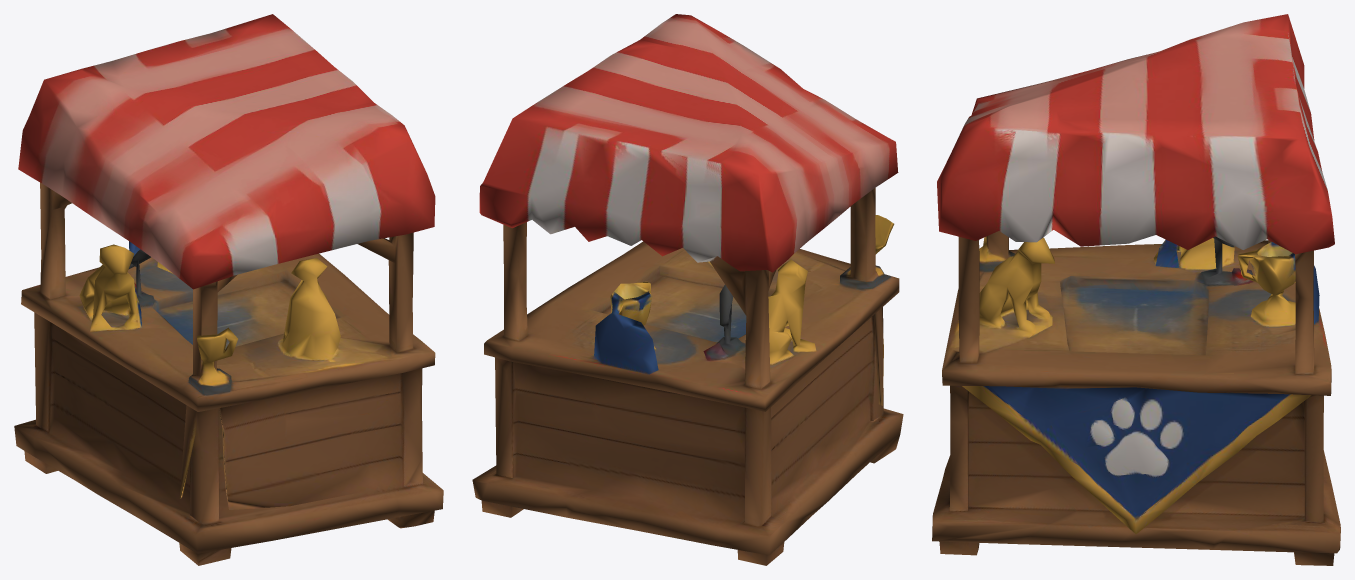
File: judge-booth.glb
3 renders of one model, left to right at view 1: azimuth 30°, elevation 25°; view 2: azimuth 150°, elevation 25°; view 3: azimuth 270°, elevation 25°, orthographic. The views are drawn at different scales.
Parts seen in each view (by area): view 1: tripo_node_b52b6902-52ca-43e4-8227-8fc32ba8c8e5; view 2: tripo_node_b52b6902-52ca-43e4-8227-8fc32ba8c8e5; view 3: tripo_node_b52b6902-52ca-43e4-8227-8fc32ba8c8e5.
Boxes of the visible parts, x1=… form: tripo_node_b52b6902-52ca-43e4-8227-8fc32ba8c8e5: x1=14, y1=14, x2=443, y2=565; tripo_node_b52b6902-52ca-43e4-8227-8fc32ba8c8e5: x1=472, y1=14, x2=903, y2=565; tripo_node_b52b6902-52ca-43e4-8227-8fc32ba8c8e5: x1=932, y1=14, x2=1340, y2=565.
Size of the model in its own units: 0.7536 by 1 by 0.8723.
Materials: 1 (1 with a texture image).
